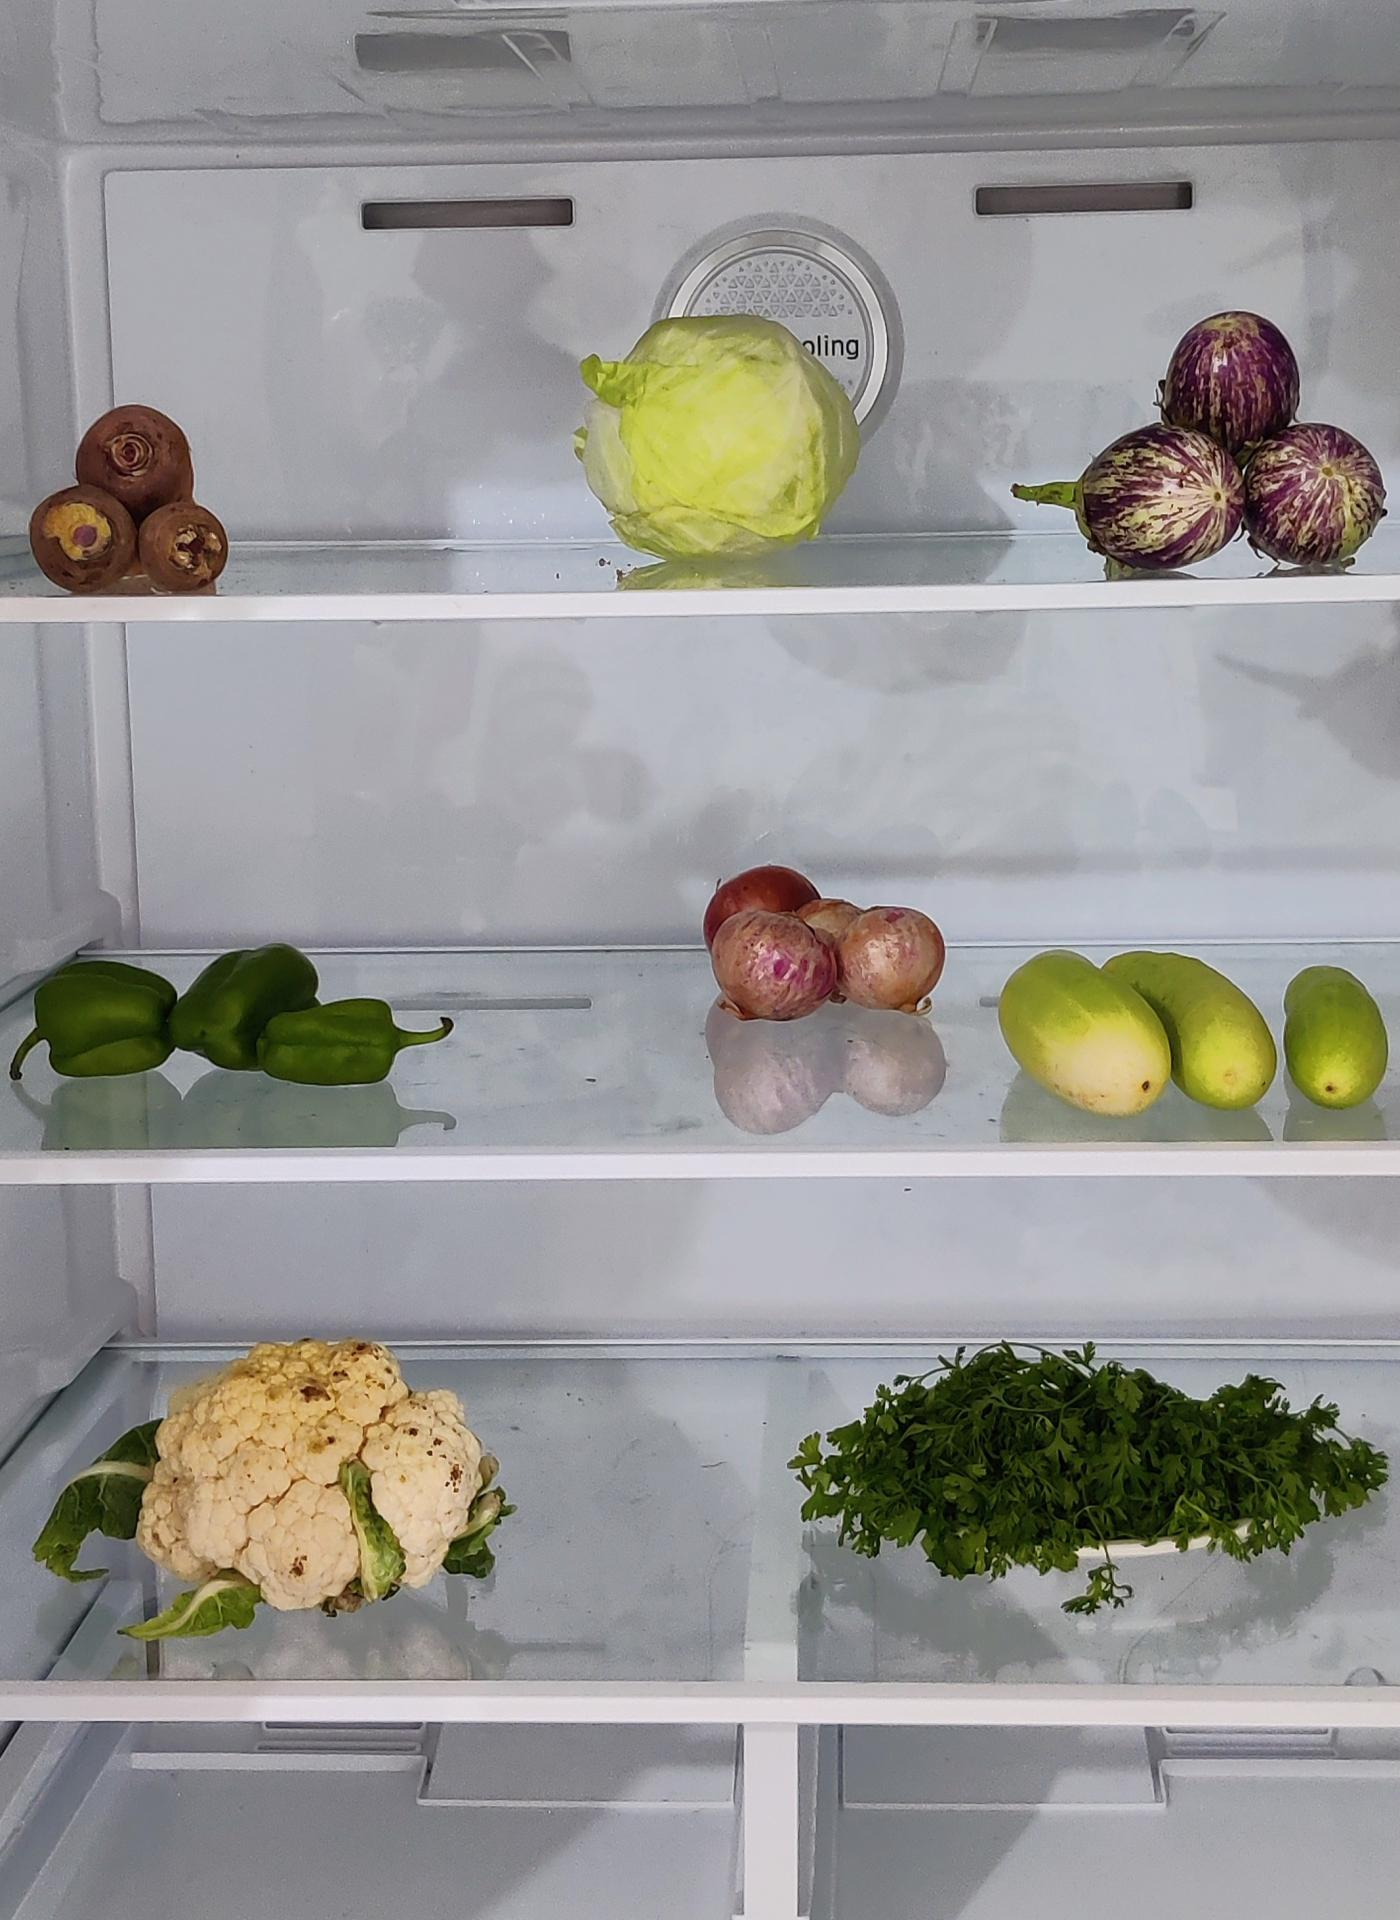brinjal: (1084, 325, 1378, 580)
cabbage: (578, 316, 865, 563)
capsicum: (16, 951, 446, 1091)
carrots: (33, 407, 237, 601)
cauliflower: (137, 1339, 513, 1610)
coriander: (801, 1346, 1393, 1579)
cucumber: (1005, 941, 1396, 1106)
onion: (704, 845, 929, 1032)
